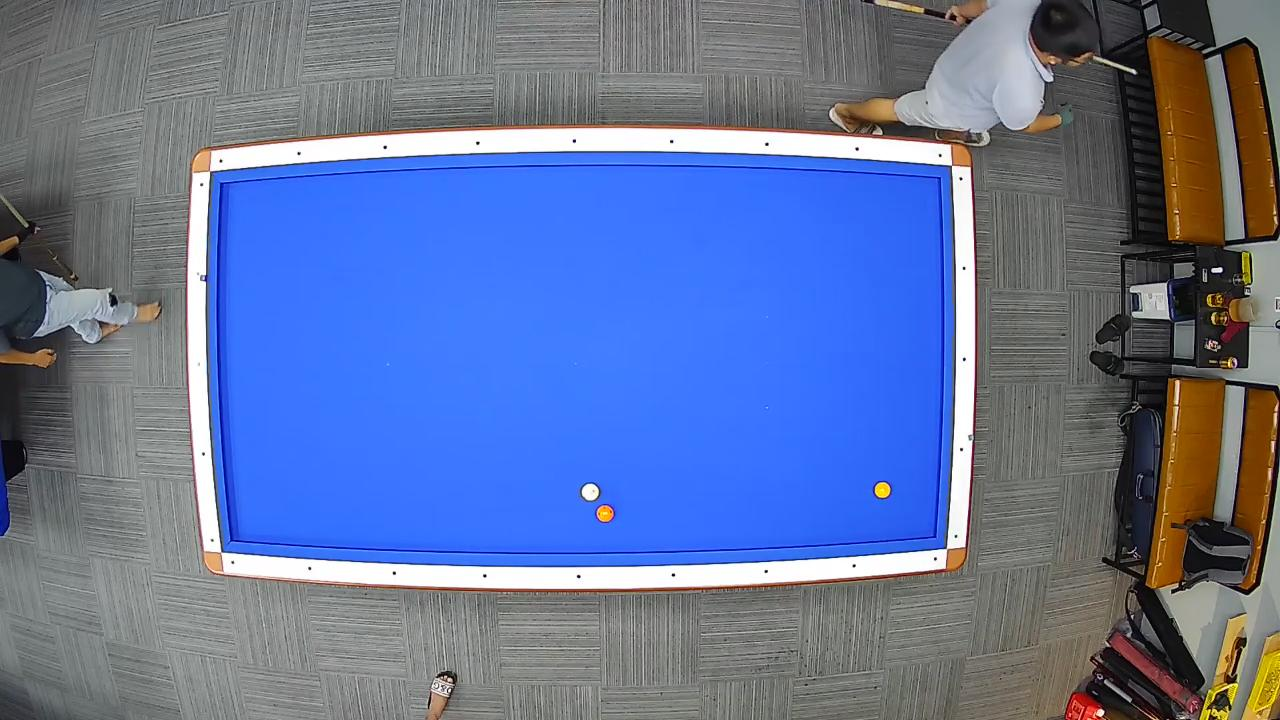Orange: (595, 504, 615, 523)
White: (580, 482, 600, 502)
Yellow: (873, 480, 892, 500)
